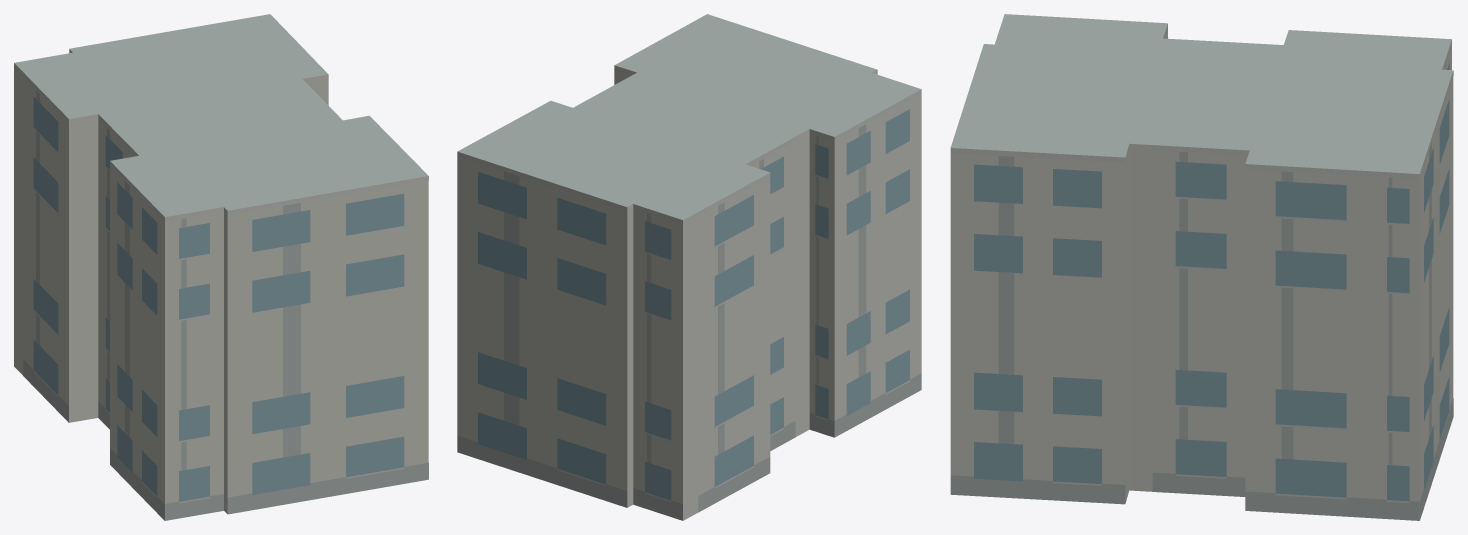
Rendered from survey-upis-32754728.glb.
The picture shows the model from 3 angles, left to right: view 1: azimuth 30°, elevation 25°; view 2: azimuth 150°, elevation 25°; view 3: azimuth 270°, elevation 25°; orthographic projection. The views are drawn at different scales.
Visible parts, largest first — view 1: survey-upis-32754728.tmp; view 2: survey-upis-32754728.tmp; view 3: survey-upis-32754728.tmp.
Boxes of the visible parts, x1=… form: survey-upis-32754728.tmp: x1=14, y1=14, x2=428, y2=520; survey-upis-32754728.tmp: x1=457, y1=14, x2=921, y2=520; survey-upis-32754728.tmp: x1=950, y1=14, x2=1453, y2=520.
Size of the model in its own units: 15.65 by 15.8 by 20.78.
